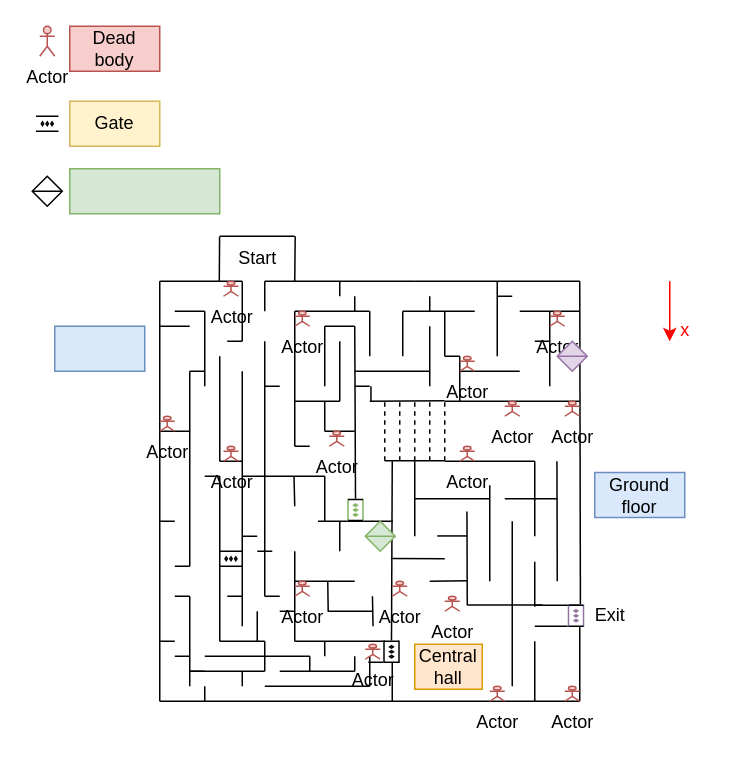
Some shapes in this 732 by 759 pixel diagram are drawn without their labels. The centre of each missing label's shape, as x and y in pixels:
"Clue to open the gate" belongs at pixel 144 190.
"First floor" belongs at pixel 99 348.
